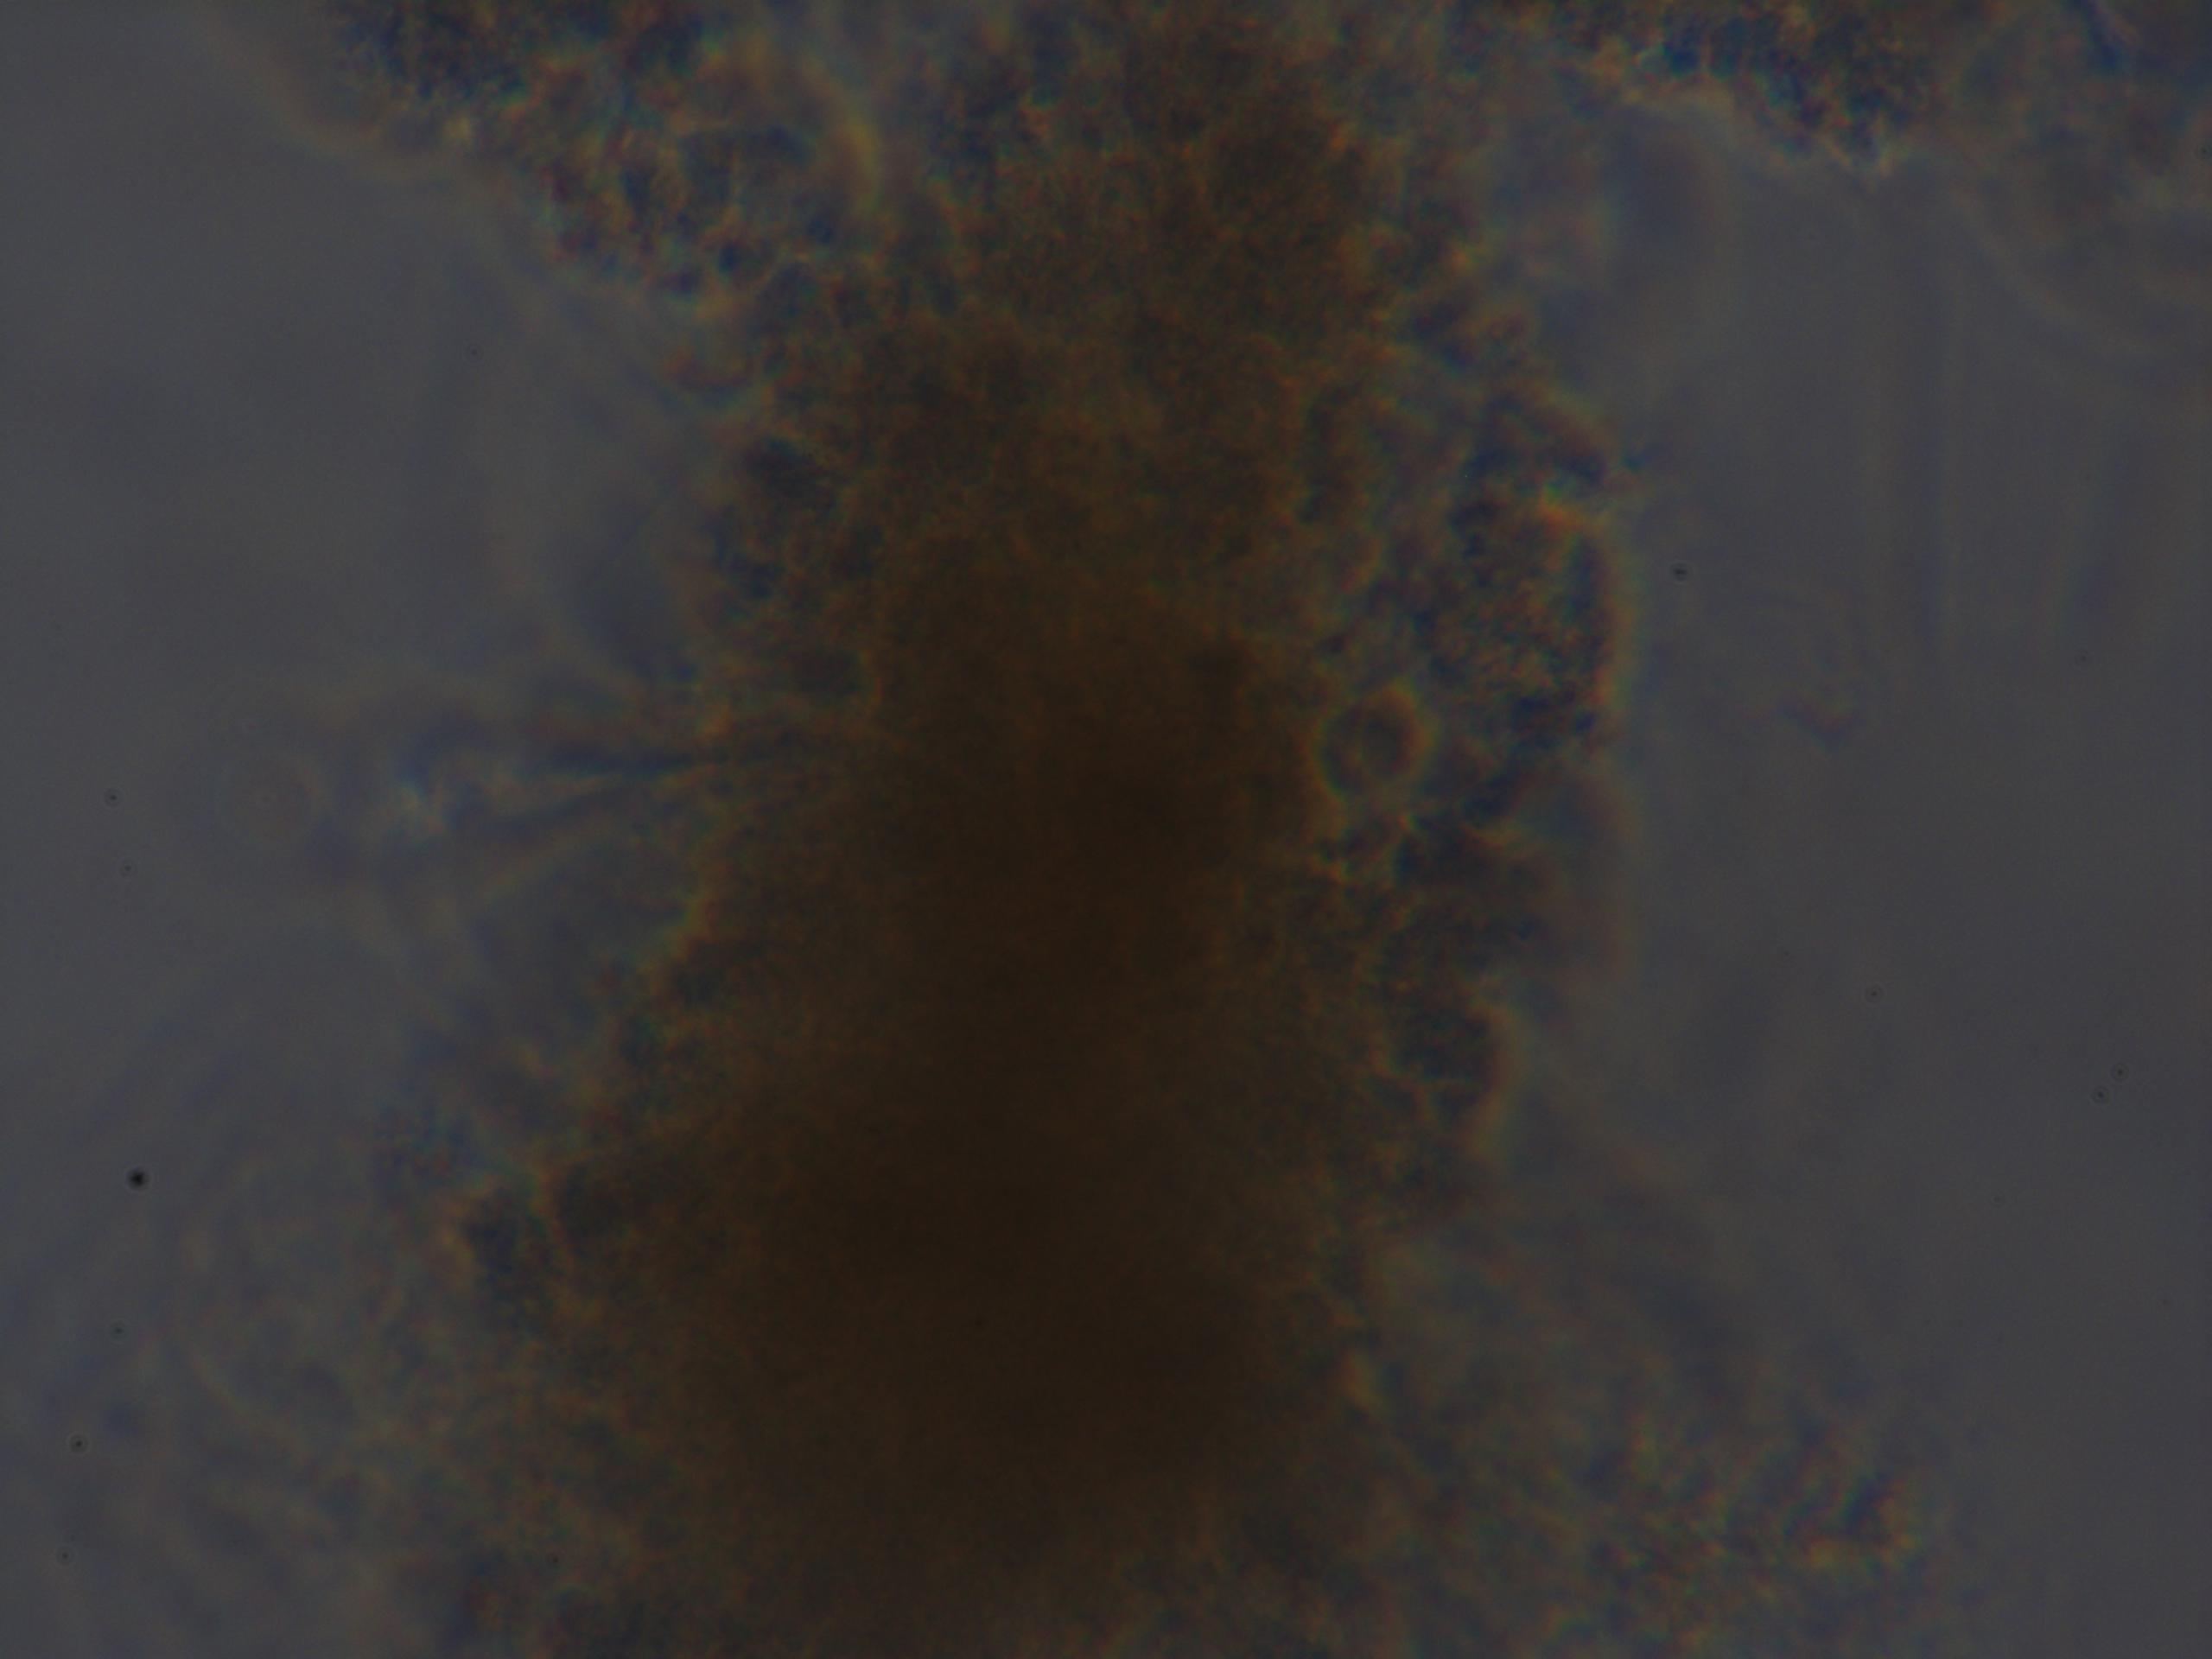spherical_floc: (465, 0, 1522, 1659), (474, 0, 1508, 1659)
